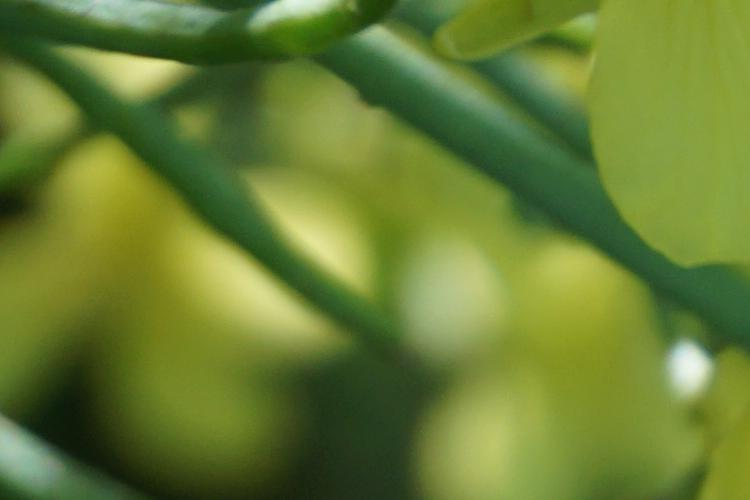yellow: (587, 5, 750, 279)
